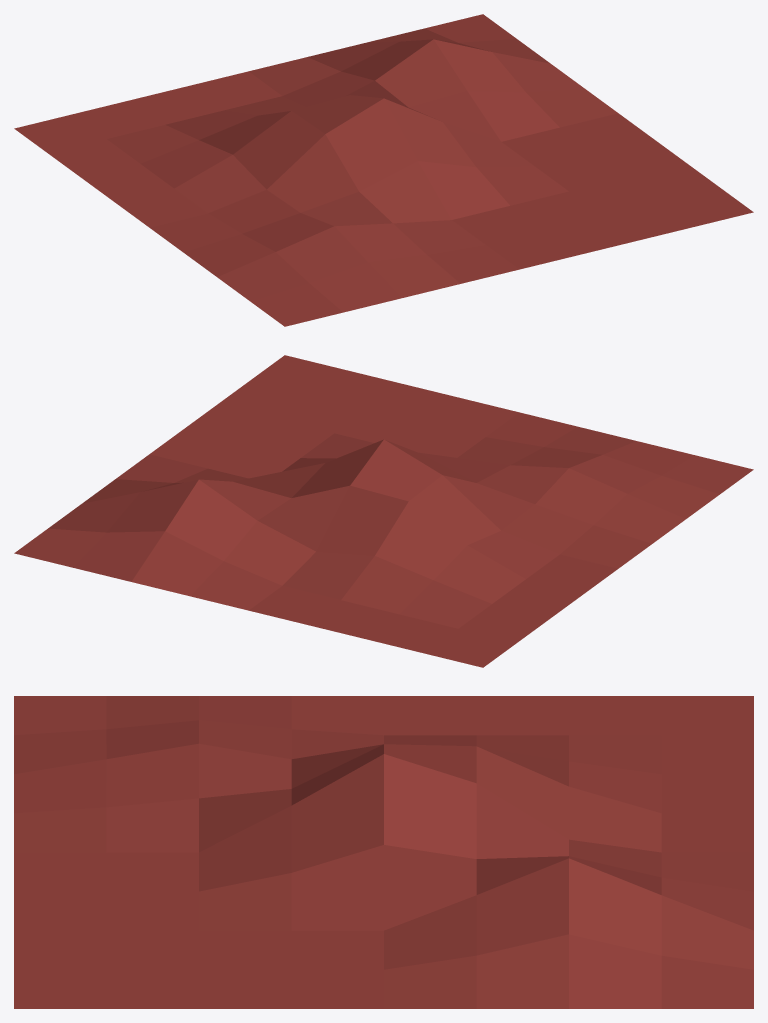
File: Terrain_2_Red.fbx
3 views of the same model, one above another, from view 1: azimuth 30°, elevation 25°; view 2: azimuth 150°, elevation 25°; view 3: azimuth 270°, elevation 25° (orthographic). The views are drawn at different scales.
Visible parts, largest first — view 1: Terrain_2_Red; view 2: Terrain_2_Red; view 3: Terrain_2_Red.
Part boxes in pixels (x1=…): Terrain_2_Red: x1=14, y1=14, x2=753, y2=326; Terrain_2_Red: x1=14, y1=355, x2=753, y2=667; Terrain_2_Red: x1=14, y1=696, x2=753, y2=1008.
Size of the model in its own units: 2000 by 294 by 2000.
